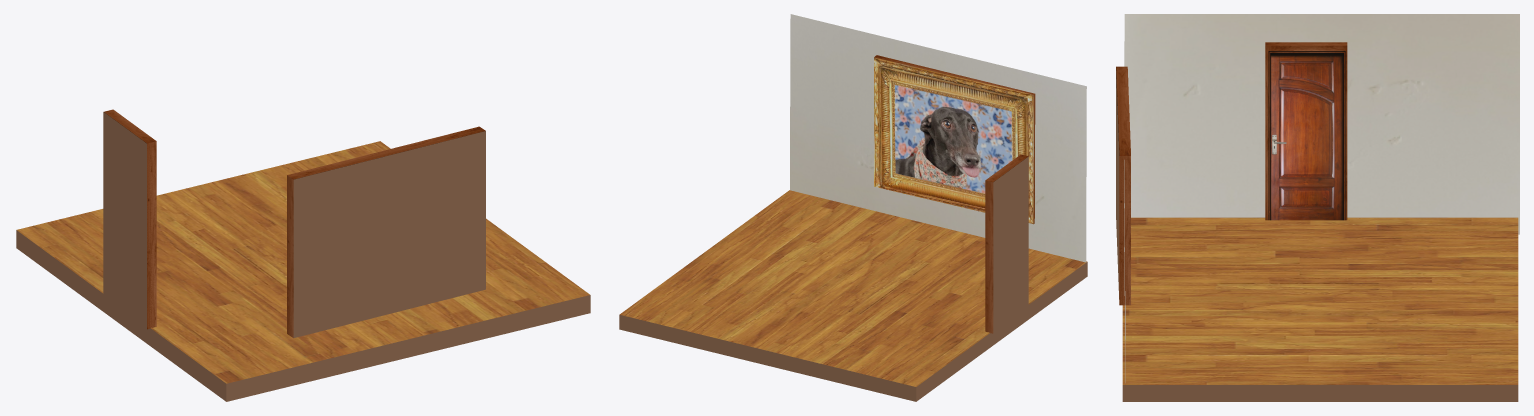
Rendered from apartment.gltf.
3 views of the same model, side by side, from view 1: azimuth 30°, elevation 25°; view 2: azimuth 150°, elevation 25°; view 3: azimuth 270°, elevation 25° (orthographic). The views are drawn at different scales.
Parts seen in each view (by area): view 1: Apartment; view 2: Apartment; view 3: Apartment.
Boxes of the visible parts, <box> form: Apartment: <box>16,109,590,401</box>; Apartment: <box>619,14,1087,401</box>; Apartment: <box>1116,14,1519,401</box>.
Size of the model in its own units: 7.29 by 4.43 by 7.36.
1 material, 1 textured.
